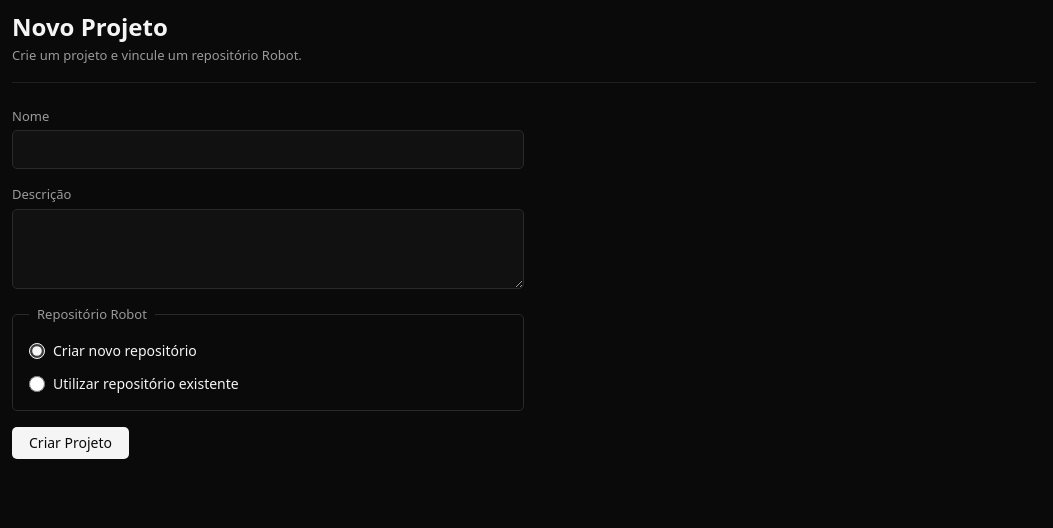
Scenario: NewProjectScreen (PRD §6, §14) › shows the error and does not notify the caller when creation fails
Step 1. Type "Banco" into the field labelled "Nome" → [268, 150], box [12, 130, 524, 169]
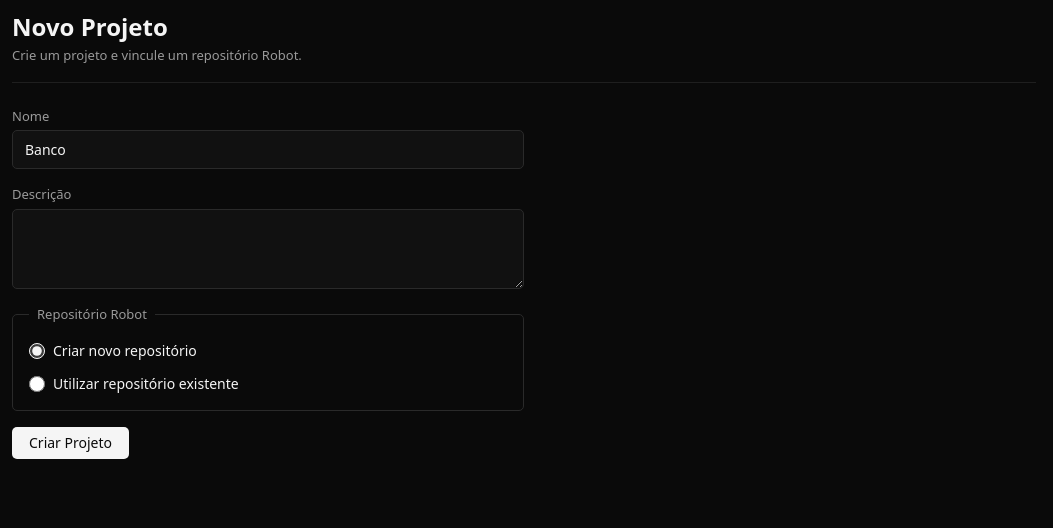
Step 2. Click the radio button labelled "Utilizar repositório existente" → [37, 384], box [29, 376, 45, 392]
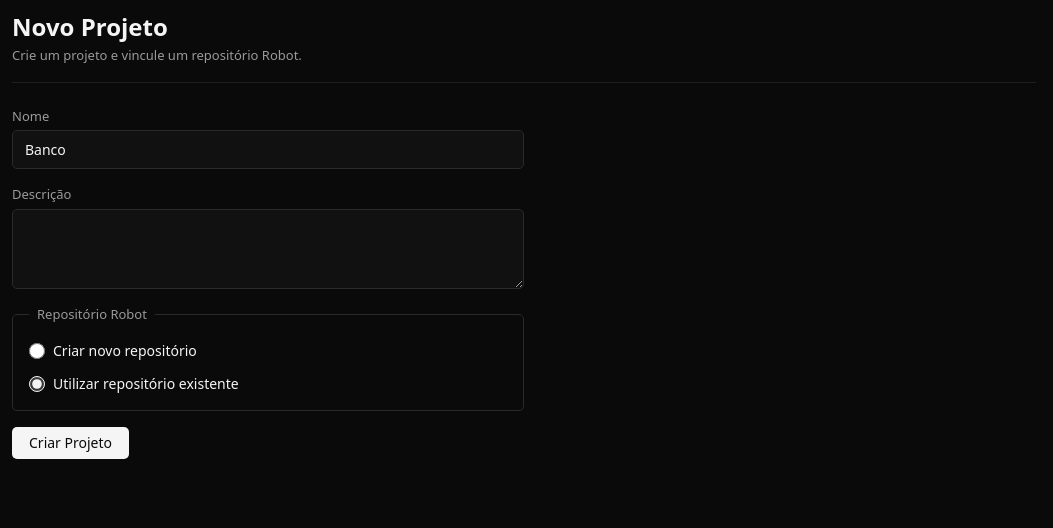
Step 3. Click the button "Criar Projeto" → [70, 443], box [12, 427, 129, 459]
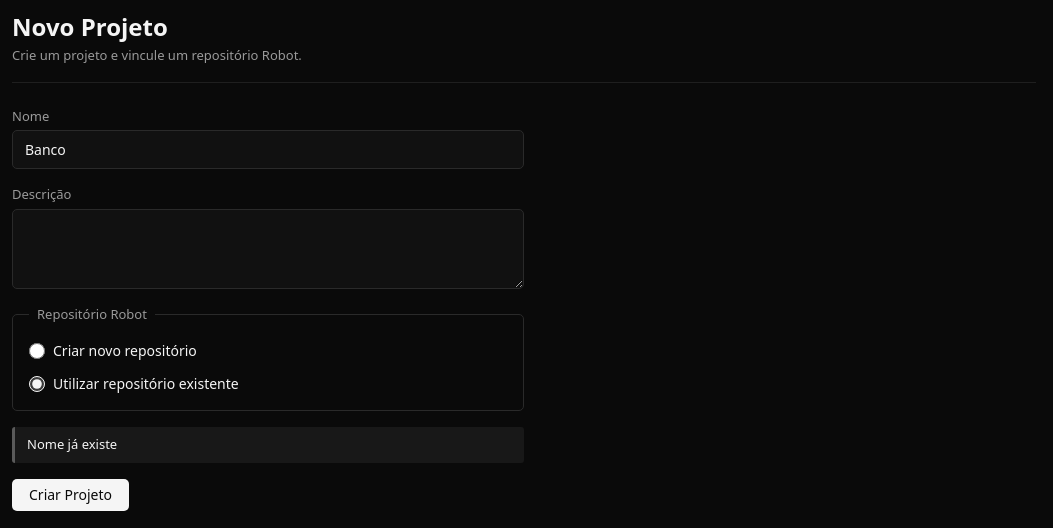
Now the message reads "Nome já existe", box [27, 435, 117, 453]
